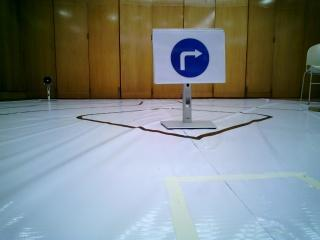right: (163, 29, 217, 84)
